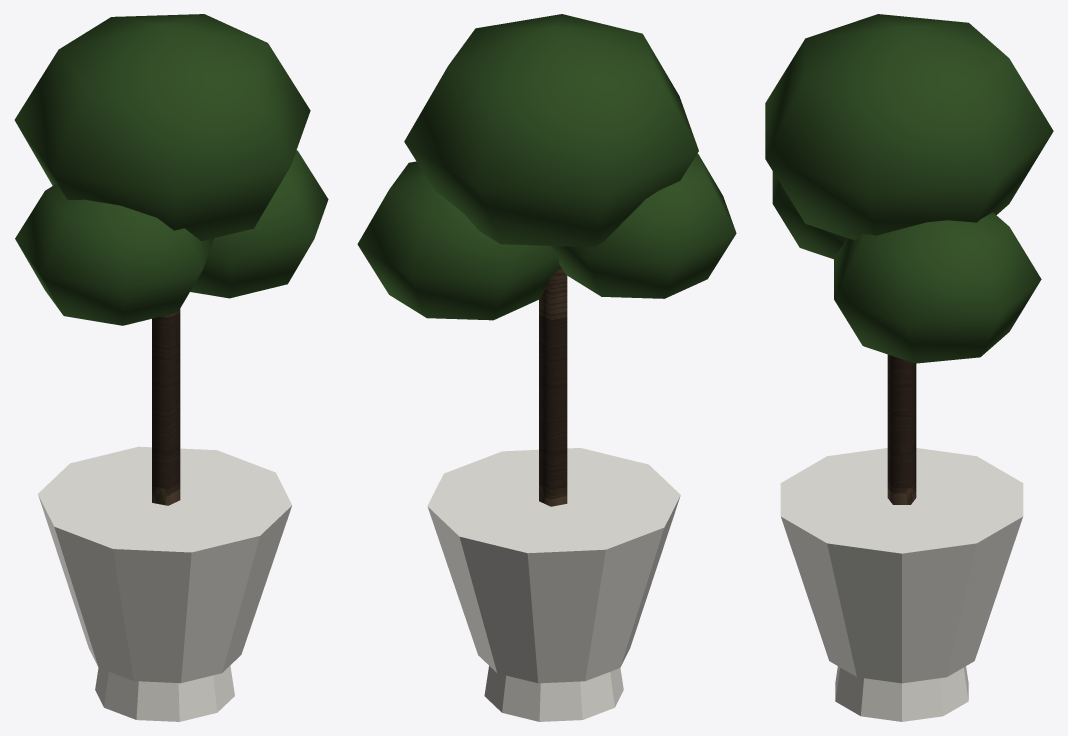
Rendered from urn_tree.glb.
3 views of the same model, side by side, from view 1: azimuth 30°, elevation 25°; view 2: azimuth 150°, elevation 25°; view 3: azimuth 270°, elevation 25° (orthographic).
Visible parts, largest first — view 1: urn_tree; view 2: urn_tree; view 3: urn_tree.
Boxes of the visible parts, left/top/right/bottom form: urn_tree: left=14, top=14, right=328, bottom=721; urn_tree: left=357, top=14, right=736, bottom=721; urn_tree: left=765, top=14, right=1053, bottom=721.
Size of the model in its own units: 1.21 by 2.41 by 0.9505.
Materials: 3 (1 with a texture image).
